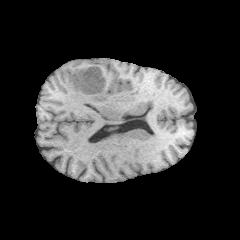glioma: (68, 66, 126, 103)
